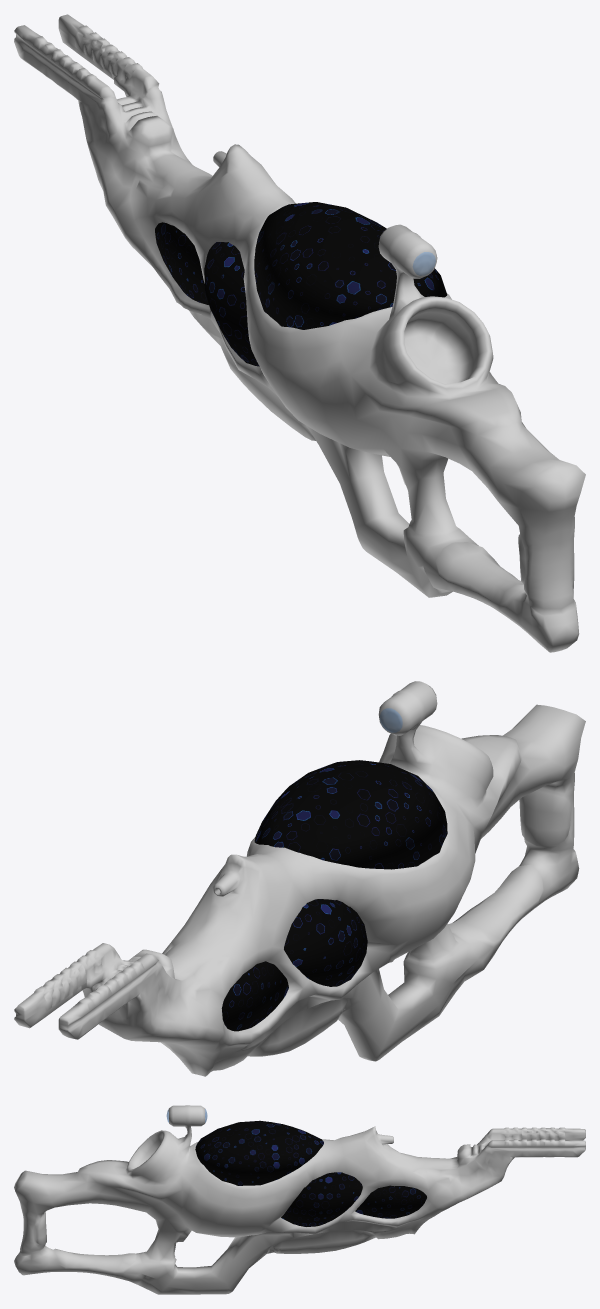
The model's file is SM_SciFi_Rifle_00.fbx.
3 views of the same model, one above another, from view 1: azimuth 30°, elevation 25°; view 2: azimuth 150°, elevation 25°; view 3: azimuth 270°, elevation 25° (orthographic). The views are drawn at different scales.
Parts seen in each view (by area): view 1: SM_Plasma_Rifle_00, SM_Holoshielding_Top_00, SM_Holoshielding_Sides_00; view 2: SM_Plasma_Rifle_00, SM_Holoshielding_Top_00, SM_Holoshielding_Sides_00; view 3: SM_Plasma_Rifle_00, SM_Holoshielding_Top_00, SM_Holoshielding_Sides_00.
Boxes of the visible parts, <box> form: SM_Plasma_Rifle_00: <box>14,14,585,652</box>; SM_Holoshielding_Top_00: <box>254,202,447,329</box>; SM_Holoshielding_Sides_00: <box>155,222,259,366</box>; SM_Plasma_Rifle_00: <box>14,681,585,1076</box>; SM_Holoshielding_Top_00: <box>254,760,447,869</box>; SM_Holoshielding_Sides_00: <box>221,899,367,1031</box>; SM_Plasma_Rifle_00: <box>14,1105,585,1294</box>; SM_Holoshielding_Top_00: <box>195,1120,323,1185</box>; SM_Holoshielding_Sides_00: <box>281,1172,426,1226</box>.
Size of the model in its own units: 288 by 525 by 1449.
